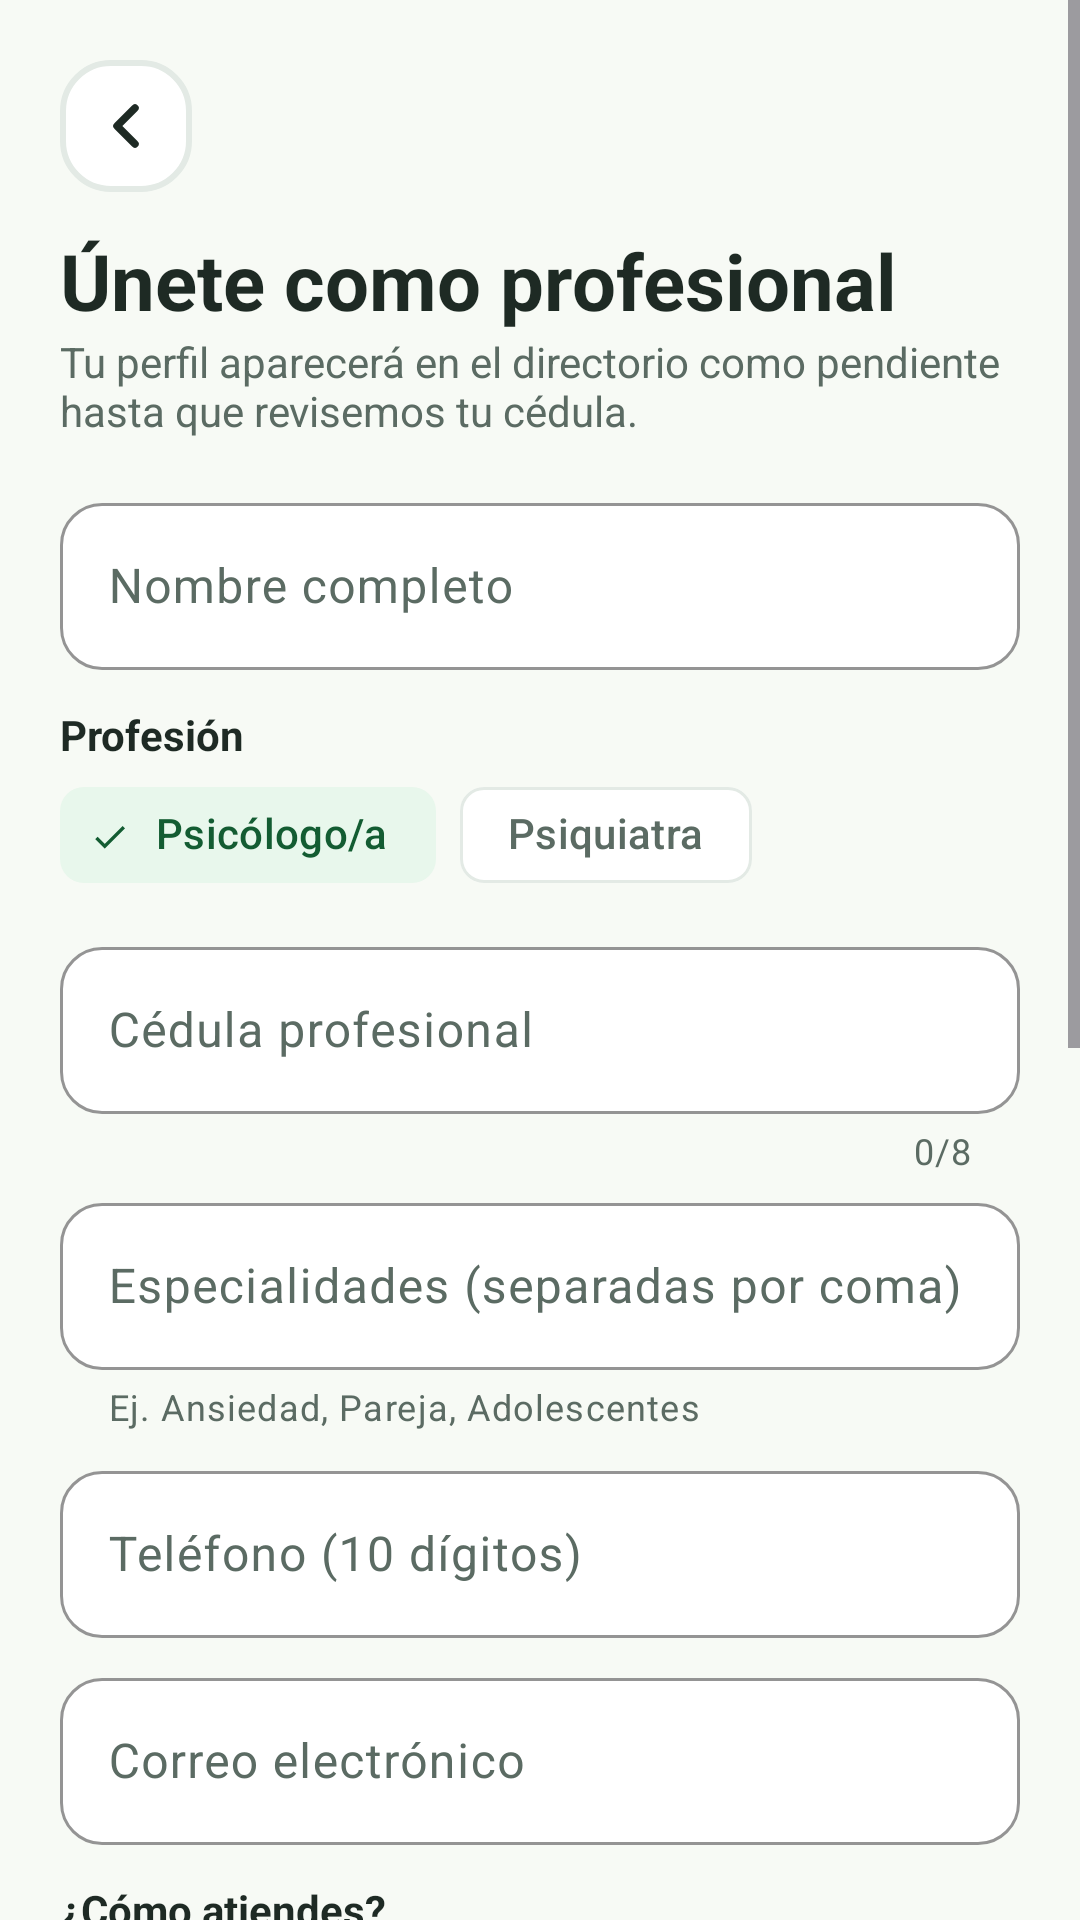

Icon bounding boxes for this 1080×1920 phone screenshot, format [x1,y1,x2,y2]:
Volver: [60,60,192,192]
